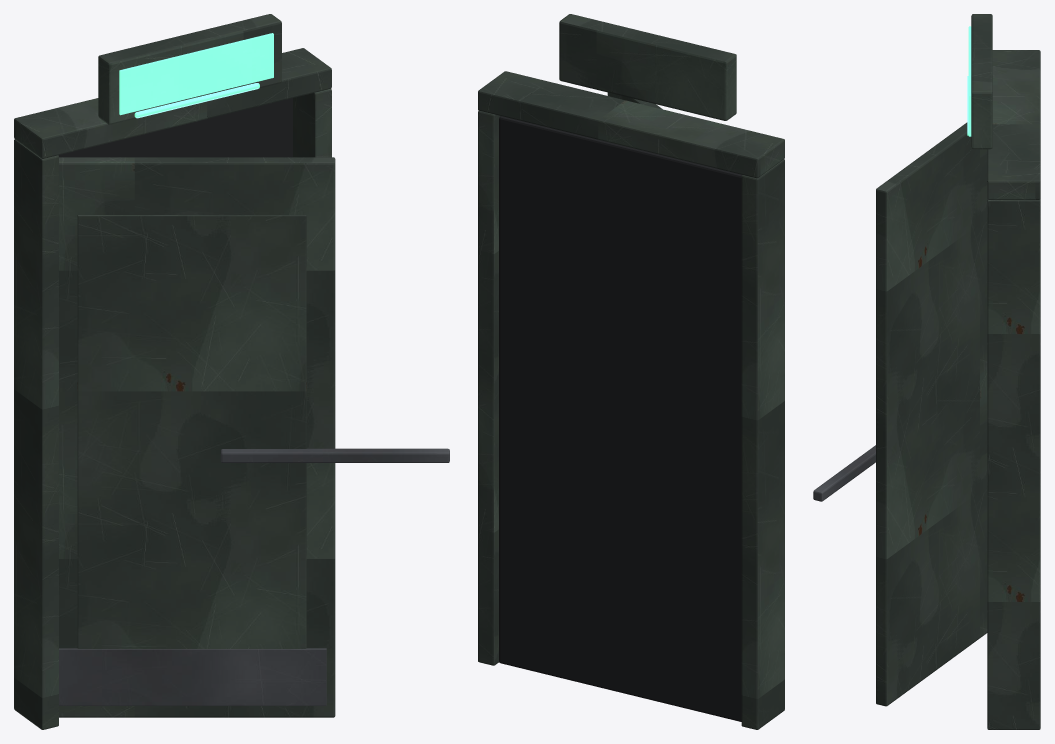
File: door_exit.glb
The picture shows the model from 3 angles, left to right: view 1: azimuth 30°, elevation 25°; view 2: azimuth 150°, elevation 25°; view 3: azimuth 270°, elevation 25°; orthographic projection. The views are drawn at different scales.
Parts seen in each view (by area): view 1: door, frame; view 2: frame; view 3: door, frame.
Part boxes in pixels (x1,y1,x2,y2): door: (59, 157, 449, 717); frame: (14, 14, 331, 729); frame: (478, 14, 784, 729); door: (813, 122, 987, 706); frame: (967, 14, 1040, 729).
Bounding box in the file's own units: 1.28 × 2.54 × 0.8544.
Materials: 6 (4 with a texture image).
